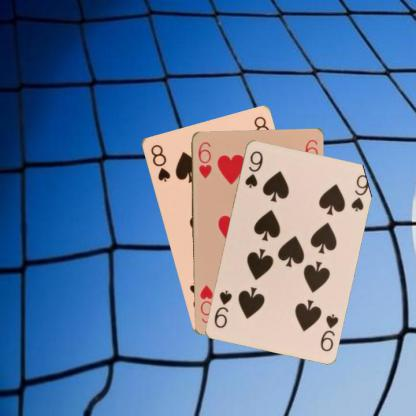6h: (195, 139, 213, 180)
8s: (147, 142, 172, 183)
9s: (317, 311, 340, 352), (242, 148, 264, 189)
